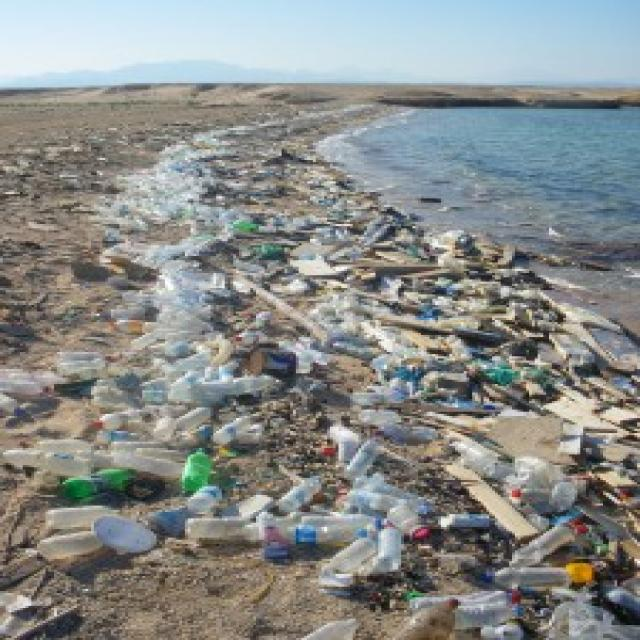garbage: (6, 232, 632, 640)
